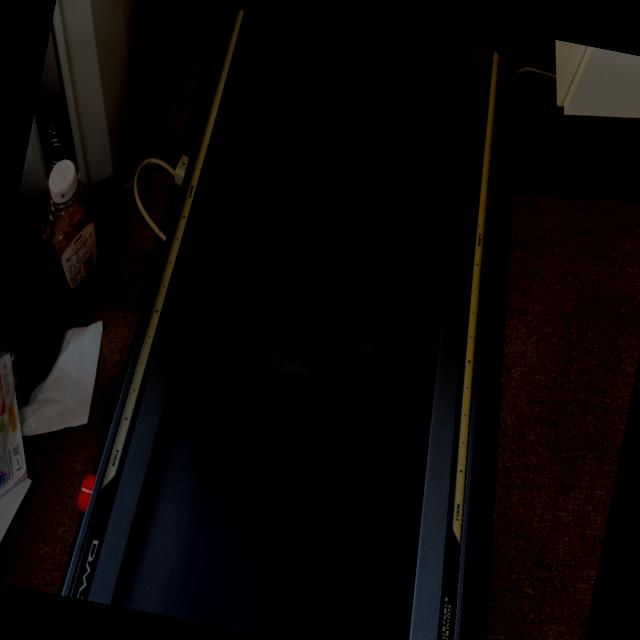Trash: (240, 253, 390, 386)
